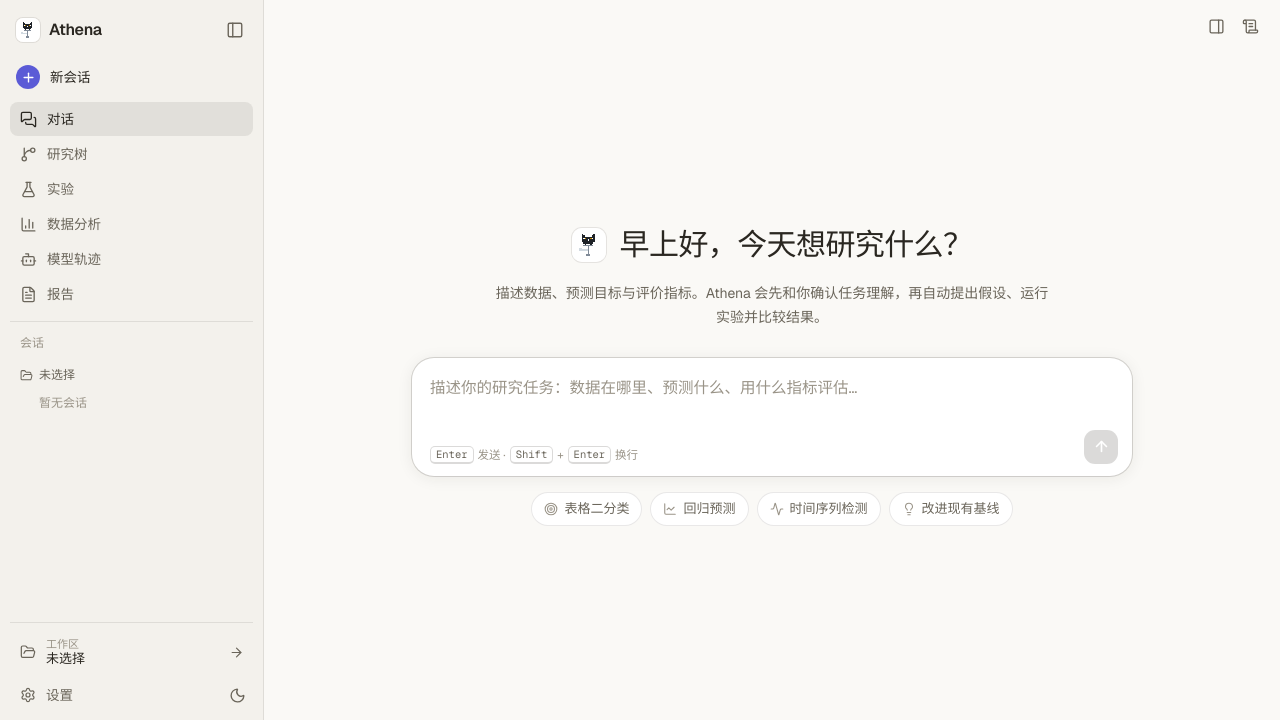
Test case: AppShell › toggles the context sidebar via the top-bar control
Check: the button "新会话" is shown, box 10,58 -> 253,96
What coordinates should you click on to do the following:
click the button named "折叠侧栏"
I would click on:
 (235, 30)
Its box is 219,14 -> 251,46.
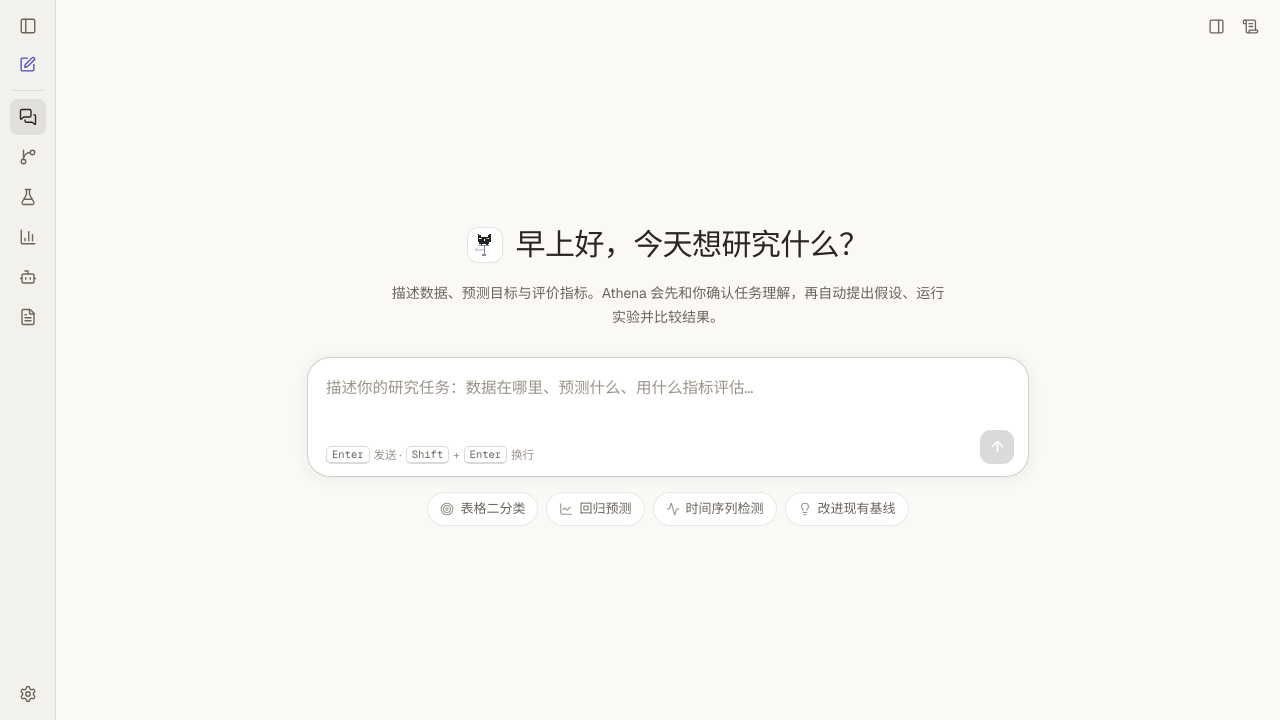
Check: the button "新会话" is gone
What coordinates should you click on to do the following:
click the button named "展开侧栏"
I would click on:
 (28, 26)
Its box is 12,10 -> 44,42.
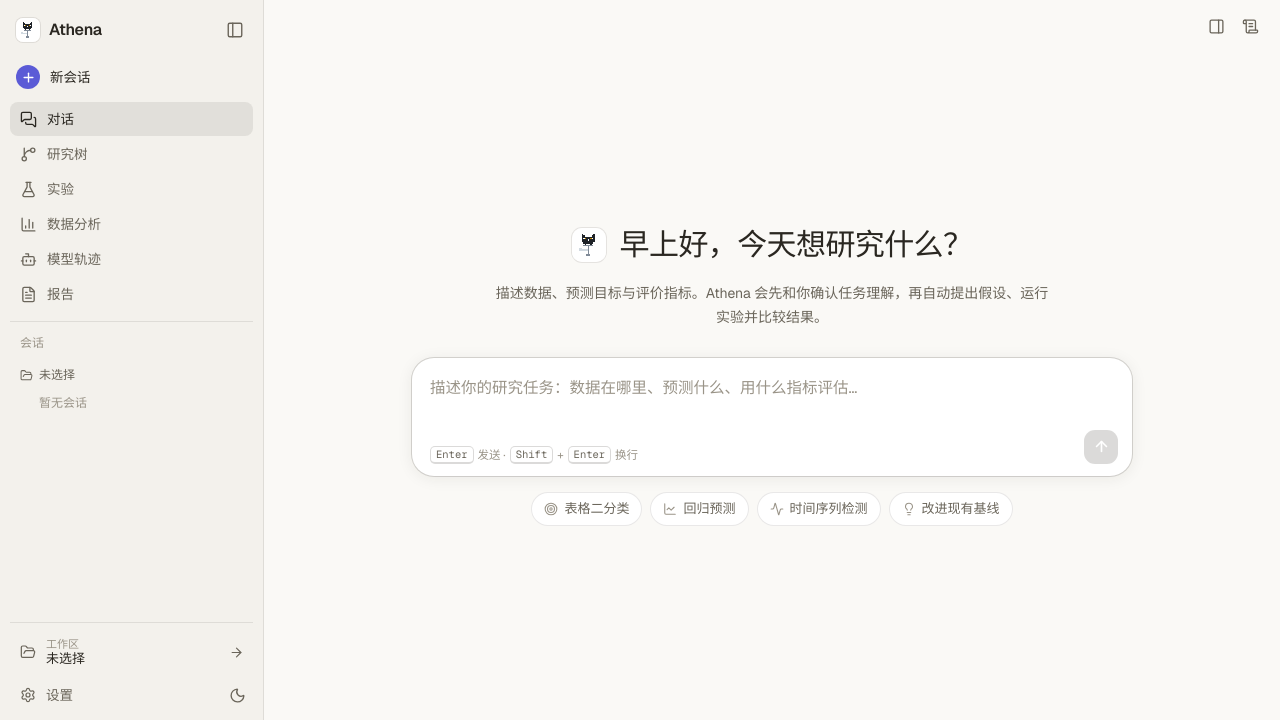
Check: the button "新会话" is shown, box 10,58 -> 253,96
